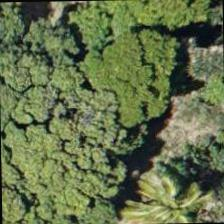Kelapa_Sawit: (123, 161, 215, 223)
